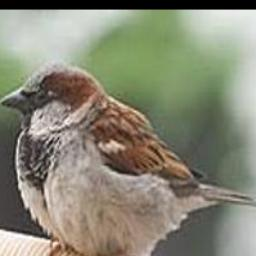Sparrow: (0, 61, 256, 256)
